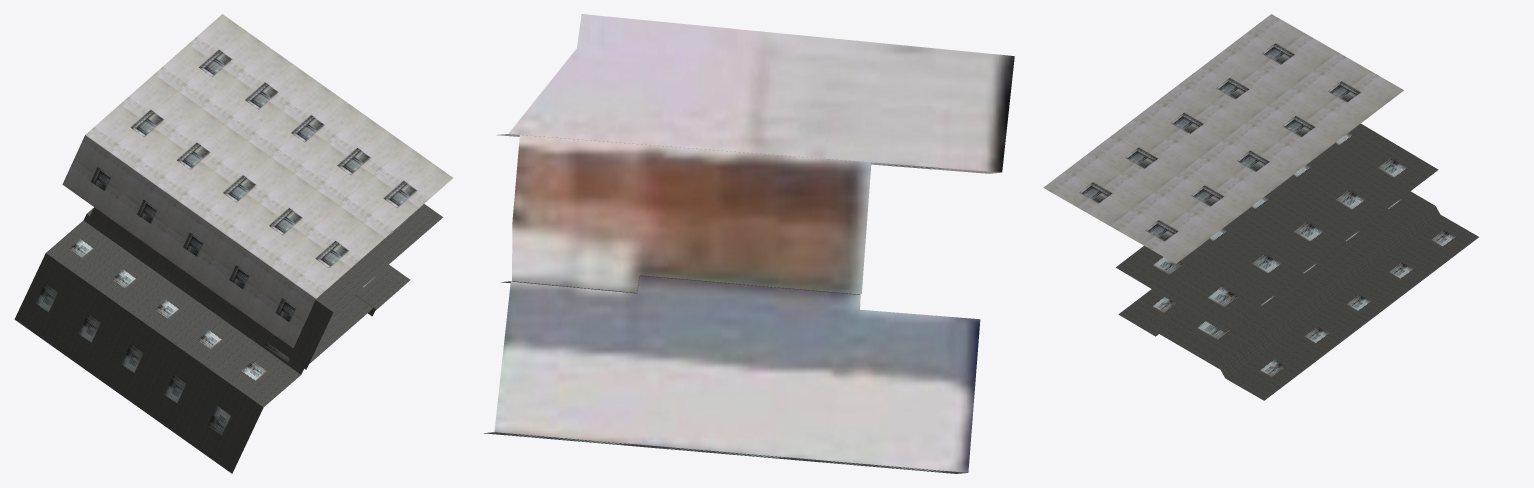
The picture shows the model from 3 angles, left to right: view 1: azimuth 30°, elevation 25°; view 2: azimuth 150°, elevation 25°; view 3: azimuth 270°, elevation 25°; orthographic projection. The views are drawn at different scales.
Bounding box in the file's own units: 23.72 × 21.55 × 26.37.
Materials: 8 (8 with a texture image).
